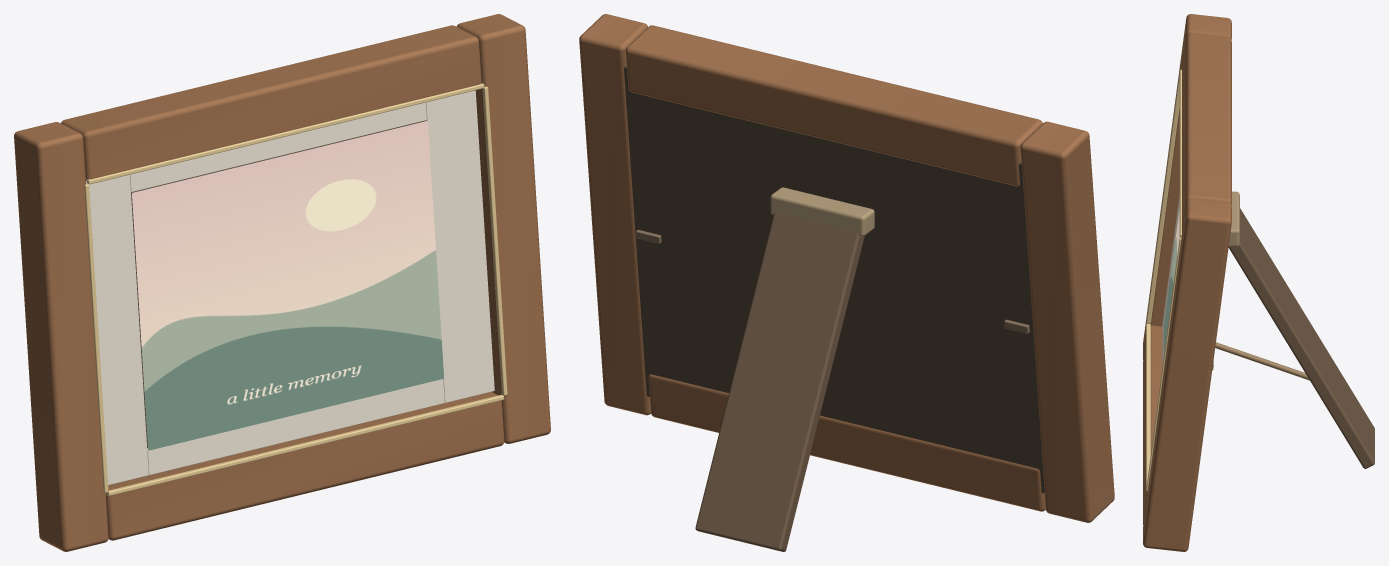
Rendered from landscape-frame.glb.
The picture shows the model from 3 angles, left to right: view 1: azimuth 30°, elevation 25°; view 2: azimuth 150°, elevation 25°; view 3: azimuth 270°, elevation 25°; orthographic projection. The views are drawn at different scales.
Parts seen in each view (by area): view 1: landscape-frame-wood:#aa7953, photo-surface, landscape-frame-paper:#fcf2e1, landscape-frame-gold:#f0d69e, landscape-frame-back:#605244; view 2: landscape-frame-back:#605244, landscape-frame-wood:#aa7953, easel-support, easel-hinge; view 3: landscape-frame-wood:#aa7953, easel-support, landscape-frame-gold:#f0d69e, landscape-frame-back:#a68b69, photo-surface, easel-hinge, landscape-frame-paper:#fcf2e1.
Boxes of the visible parts, x1,y1,x2,y2 form: landscape-frame-wood:#aa7953: (14,14,550,551); photo-surface: (132,120,444,450); landscape-frame-paper:#fcf2e1: (86,90,494,485); landscape-frame-gold:#f0d69e: (84,83,507,495); landscape-frame-back:#605244: (131,121,424,448); landscape-frame-back:#605244: (624,65,1044,493); landscape-frame-wood:#aa7953: (579,14,1114,522); easel-support: (695,212,864,551); easel-hinge: (770,187,874,236); landscape-frame-wood:#aa7953: (1143,14,1231,551); easel-support: (1228,208,1374,468); landscape-frame-gold:#f0d69e: (1146,69,1181,491); landscape-frame-back:#a68b69: (1215,342,1309,380); photo-surface: (1164,209,1180,353); easel-hinge: (1228,191,1239,246); landscape-frame-paper:#fcf2e1: (1162,196,1179,366).
Size of the model in its own units: 1.47 by 1.14 by 0.7074.
Materials: 9 (1 with a texture image).
